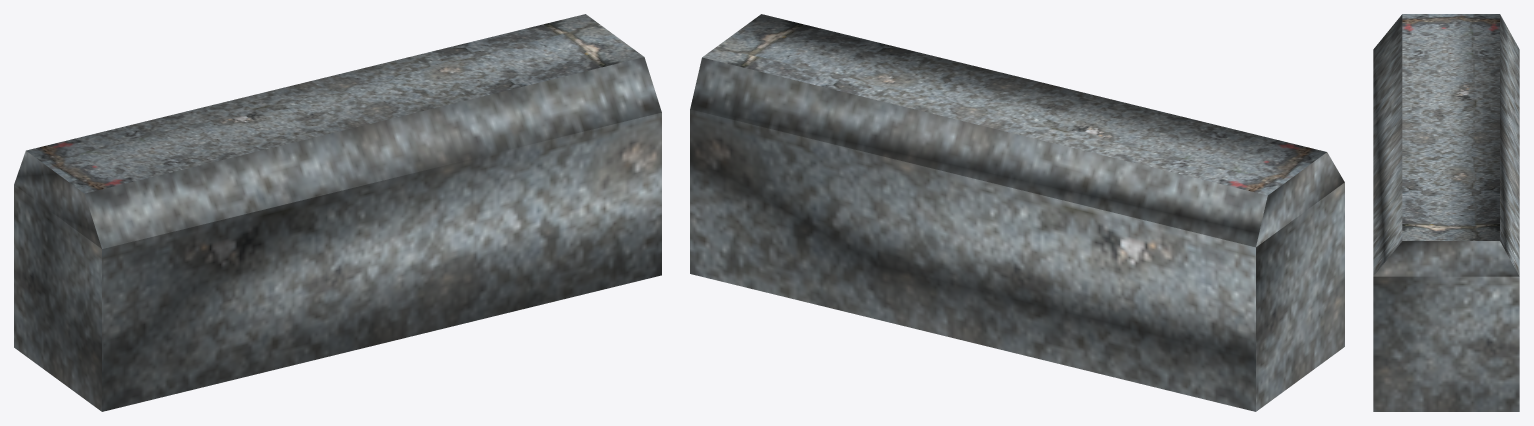
Rendered from sidewalk_brick.fbx.
The picture shows the model from 3 angles, left to right: view 1: azimuth 30°, elevation 25°; view 2: azimuth 150°, elevation 25°; view 3: azimuth 270°, elevation 25°; orthographic projection. The views are drawn at different scales.
Visible parts, largest first — view 1: trottoir_morceau.002; view 2: trottoir_morceau.002; view 3: trottoir_morceau.002.
Boxes of the visible parts, x1,y1,x2,y2 form: trottoir_morceau.002: (14,14,661,411); trottoir_morceau.002: (690,14,1344,411); trottoir_morceau.002: (1373,14,1519,411).
Bounding box in the file's own units: 5.73 × 2.01 × 1.56.
Materials: 1 (1 with a texture image).
